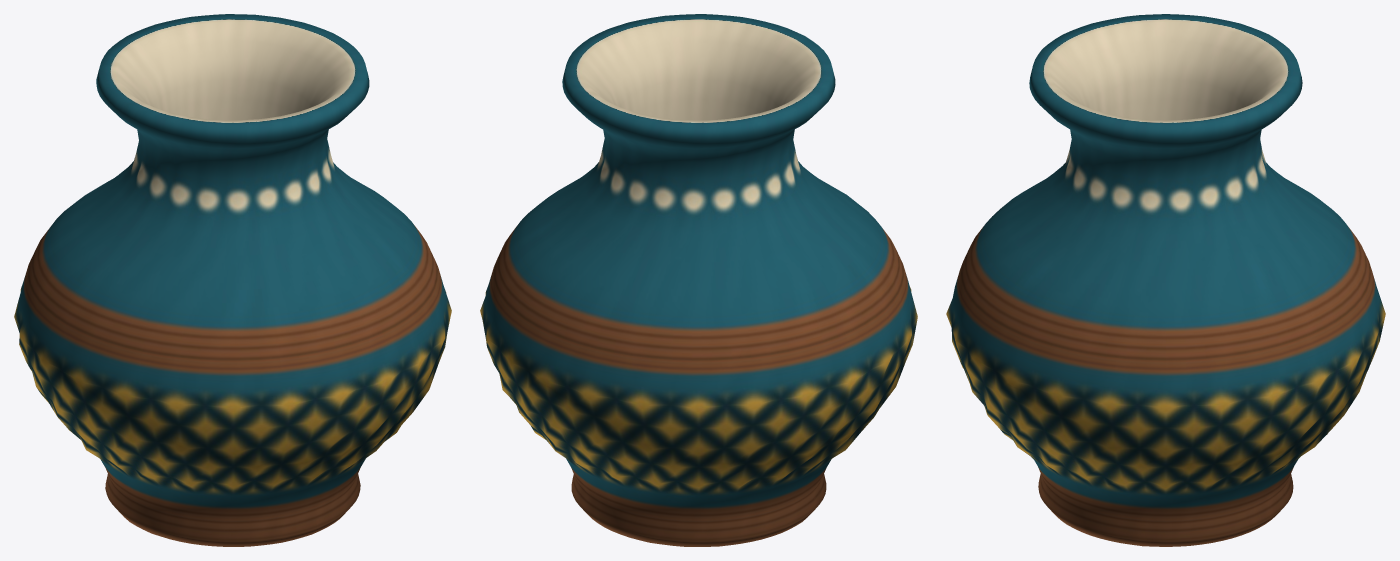
The model's file is vase_optimized_draco.glb.
The picture shows the model from 3 angles, left to right: view 1: azimuth 30°, elevation 25°; view 2: azimuth 150°, elevation 25°; view 3: azimuth 270°, elevation 25°; orthographic projection.
Visible parts, largest first — view 1: vase_optimized; view 2: vase_optimized; view 3: vase_optimized.
Part boxes in pixels (box(x1,y1,x2,y2)): vase_optimized: box(14, 14, 451, 546); vase_optimized: box(480, 14, 917, 546); vase_optimized: box(946, 14, 1385, 546).
Size of the model in its own units: 1.81 by 1.94 by 1.81.
1 material, 1 textured.
